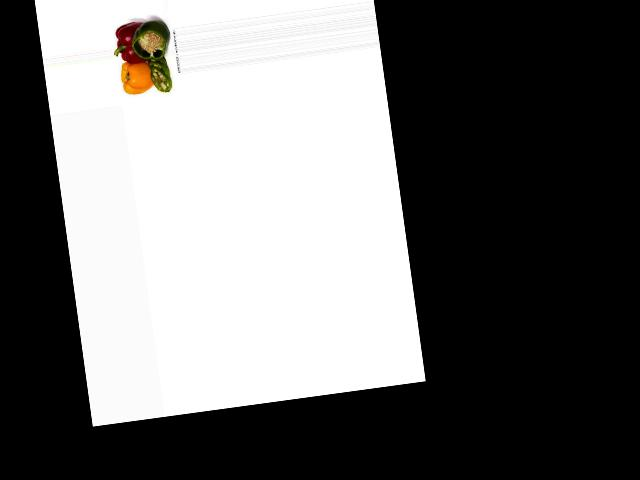bell_pepper: (127, 15, 169, 63)
